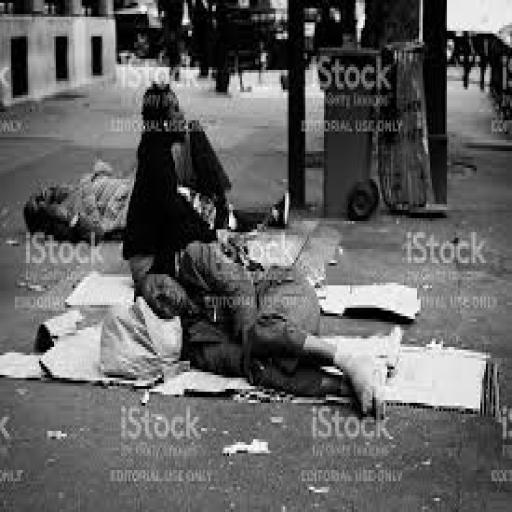sleeping: (119, 78, 237, 319)
